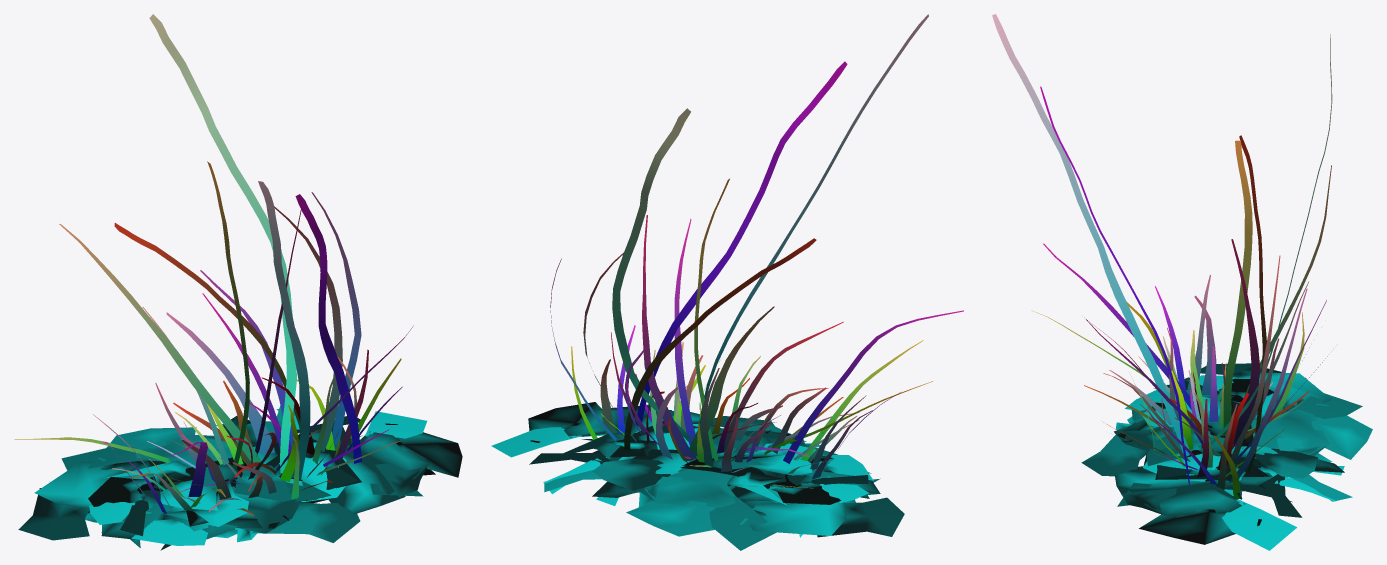
Rendered from Wild_Grass_vczndjqja_High_vczndjqja_VarH_LOD0.fbx.
3 renders of one model, left to right at view 1: azimuth 30°, elevation 25°; view 2: azimuth 150°, elevation 25°; view 3: azimuth 270°, elevation 25°, orthographic. The views are drawn at different scales.
Parts seen in each view (by area): view 1: _b4lg_VarH_LOD0; view 2: _b4lg_VarH_LOD0; view 3: _b4lg_VarH_LOD0.
Part boxes in pixels (box(x1,y1,x2,y2)): _b4lg_VarH_LOD0: box(14, 14, 462, 550); _b4lg_VarH_LOD0: box(491, 14, 963, 550); _b4lg_VarH_LOD0: box(992, 14, 1372, 550).
Bounding box in the file's own units: 88.9 × 90.07 × 75.92.
